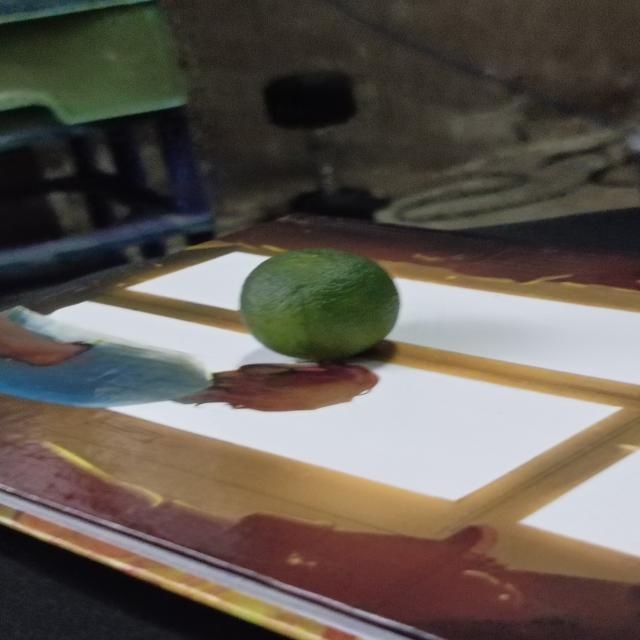heathy: (238, 245, 403, 364)
